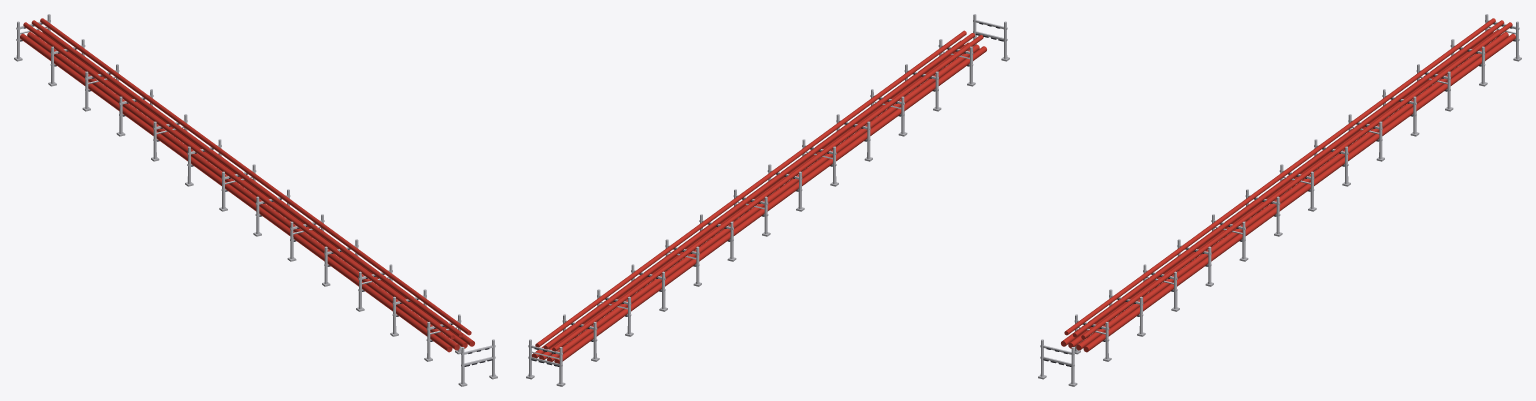
File: dutos.glb
3 views of the same model, side by side, from view 1: azimuth 30°, elevation 25°; view 2: azimuth 150°, elevation 25°; view 3: azimuth 330°, elevation 25° (orthographic).
Bounding box in the file's own units: 7.31 × 7.3 × 157.
